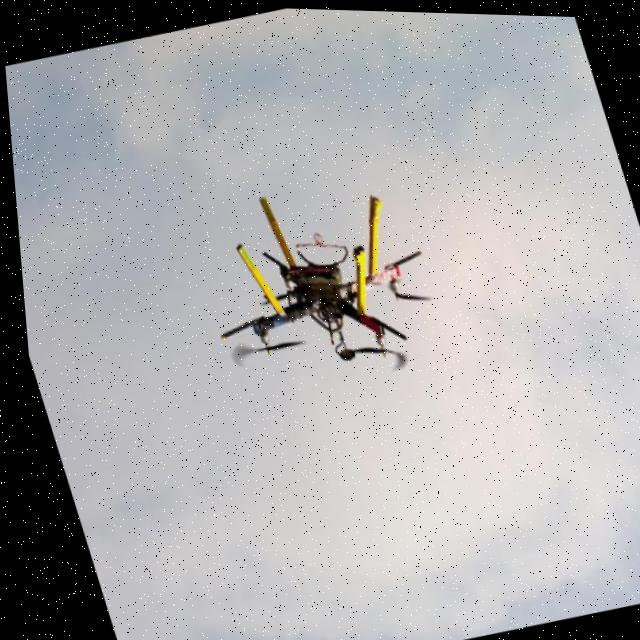drones: (159, 140, 474, 426)
